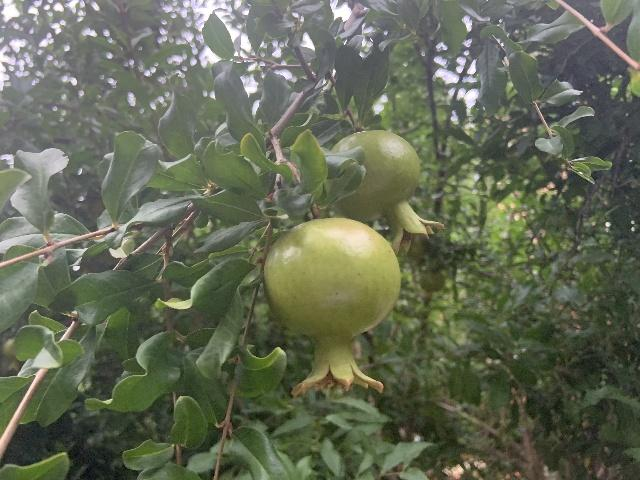mid-growth: (263, 216, 400, 396), (330, 128, 445, 253)
